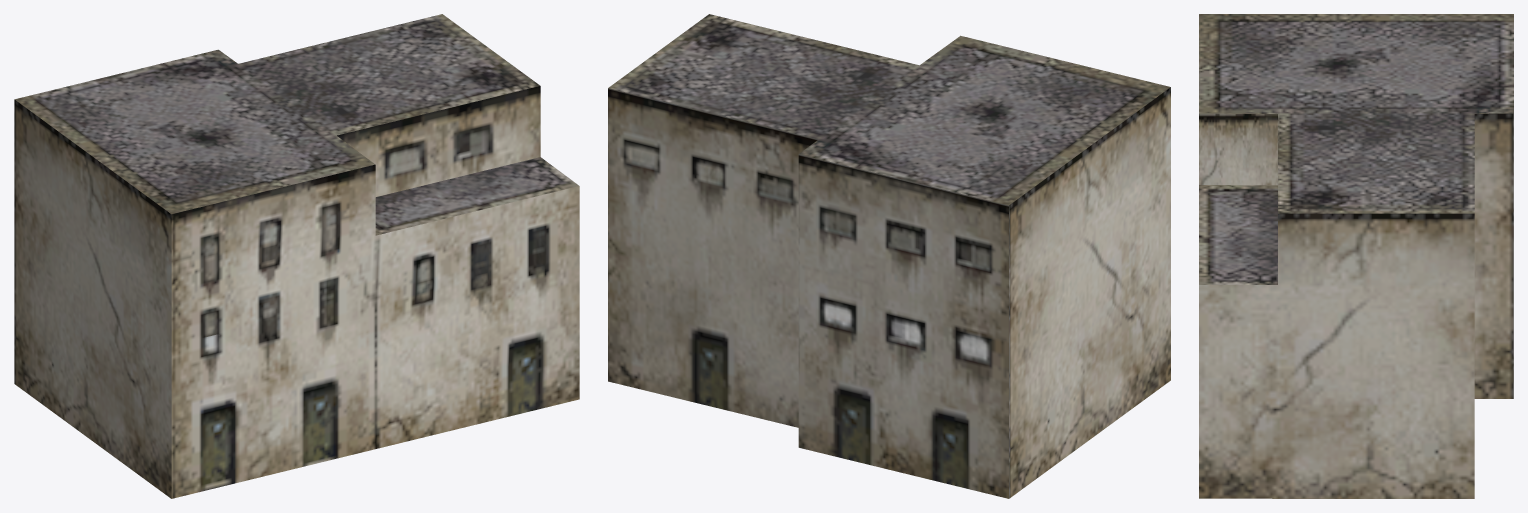
Rendered from Civilian - Commercial Building - Stan Hotel 01 - Night - CBThotel01_n.glb.
3 renders of one model, left to right at view 1: azimuth 30°, elevation 25°; view 2: azimuth 150°, elevation 25°; view 3: azimuth 270°, elevation 25°, orthographic. The views are drawn at different scales.
Visible parts, largest first — view 1: CBTHOTEL01_N; view 2: CBTHOTEL01_N; view 3: CBTHOTEL01_N.
Boxes of the visible parts, x1,y1,x2,y2 form: CBTHOTEL01_N: (14,14,579,498); CBTHOTEL01_N: (608,14,1170,498); CBTHOTEL01_N: (1199,14,1513,498).
Size of the model in its own units: 72.48 by 48.27 by 48.27.
Materials: 1 (1 with a texture image).
